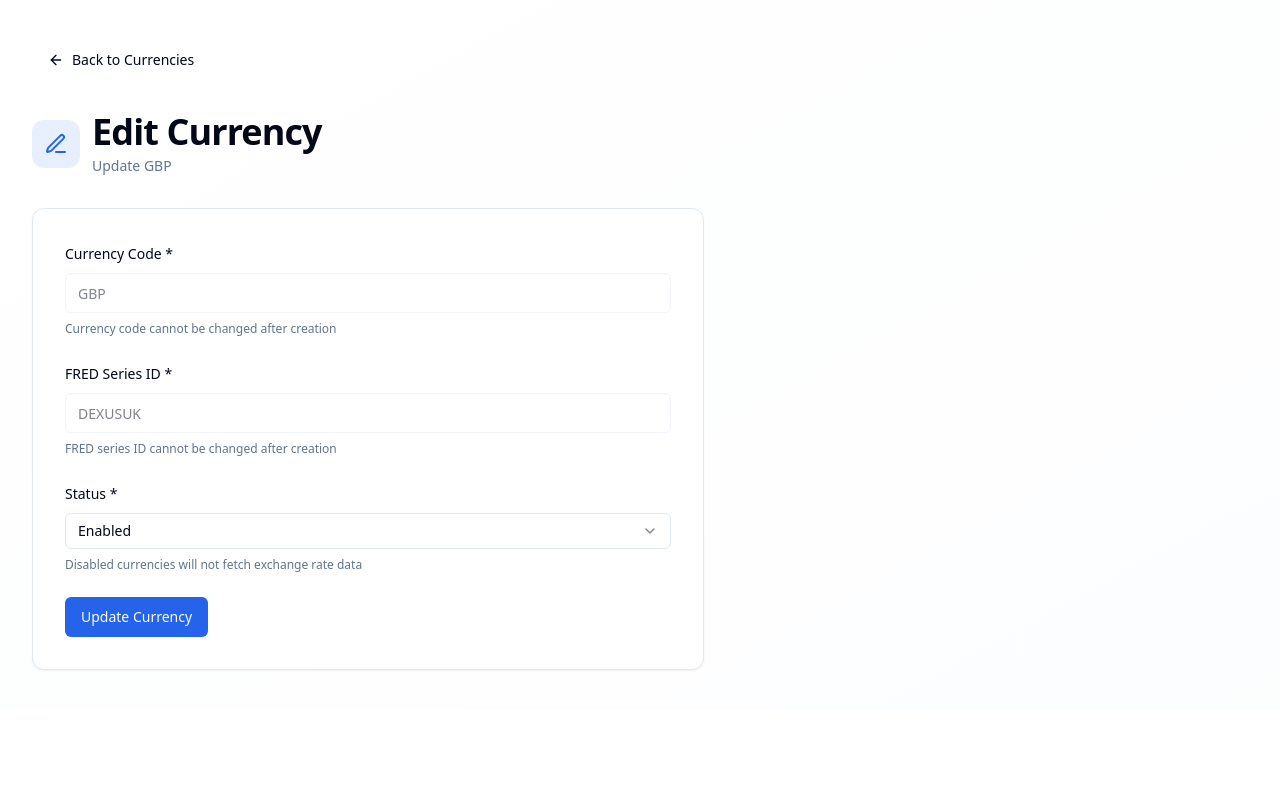
CurrencyEditPage › loads an existing currency and disables it after confirmation
Expected: the field showing "GBP" is disabled, [65,273,671,313]
Expected: the field showing "DEXUSUK" is disabled, [65,393,671,433]
Click the button named "Status".
click(105, 530)  # box [65,513,671,549]
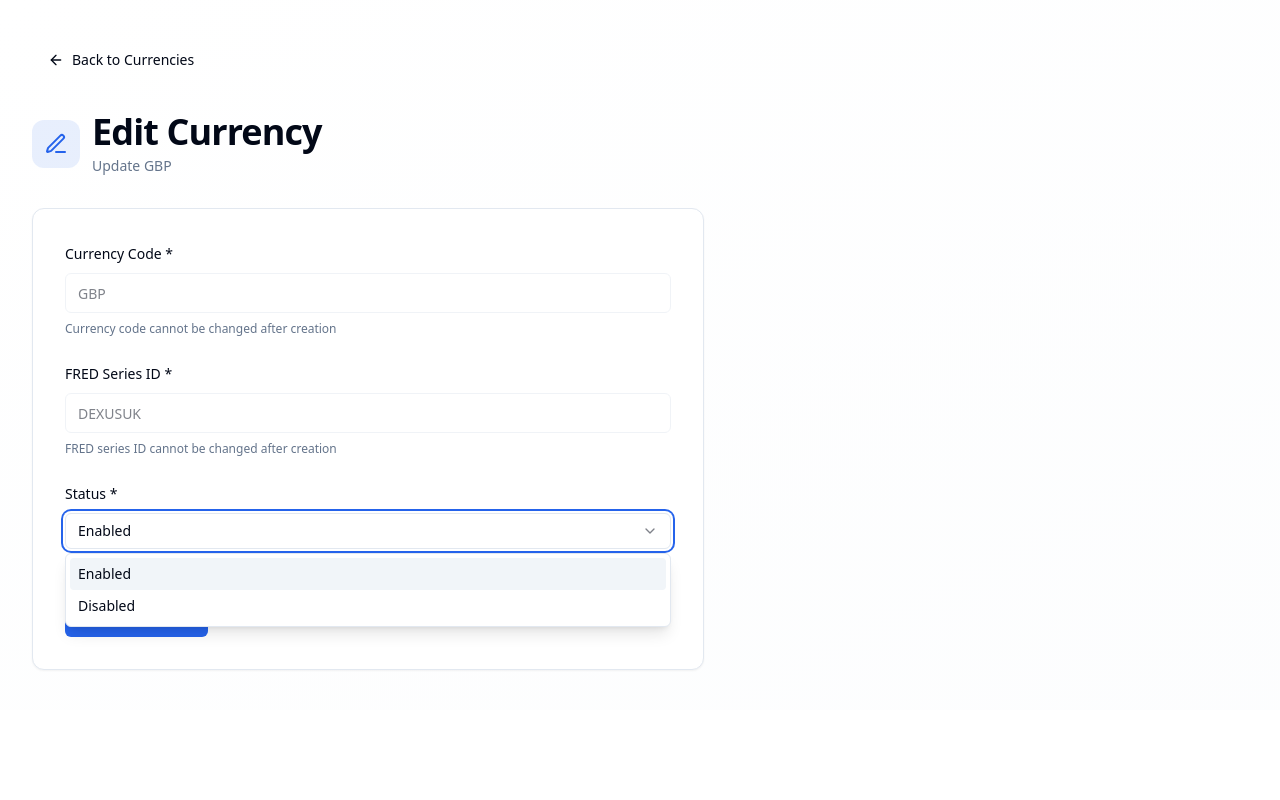
Click the button "Disabled".
click(107, 606)  # box [70,590,666,622]
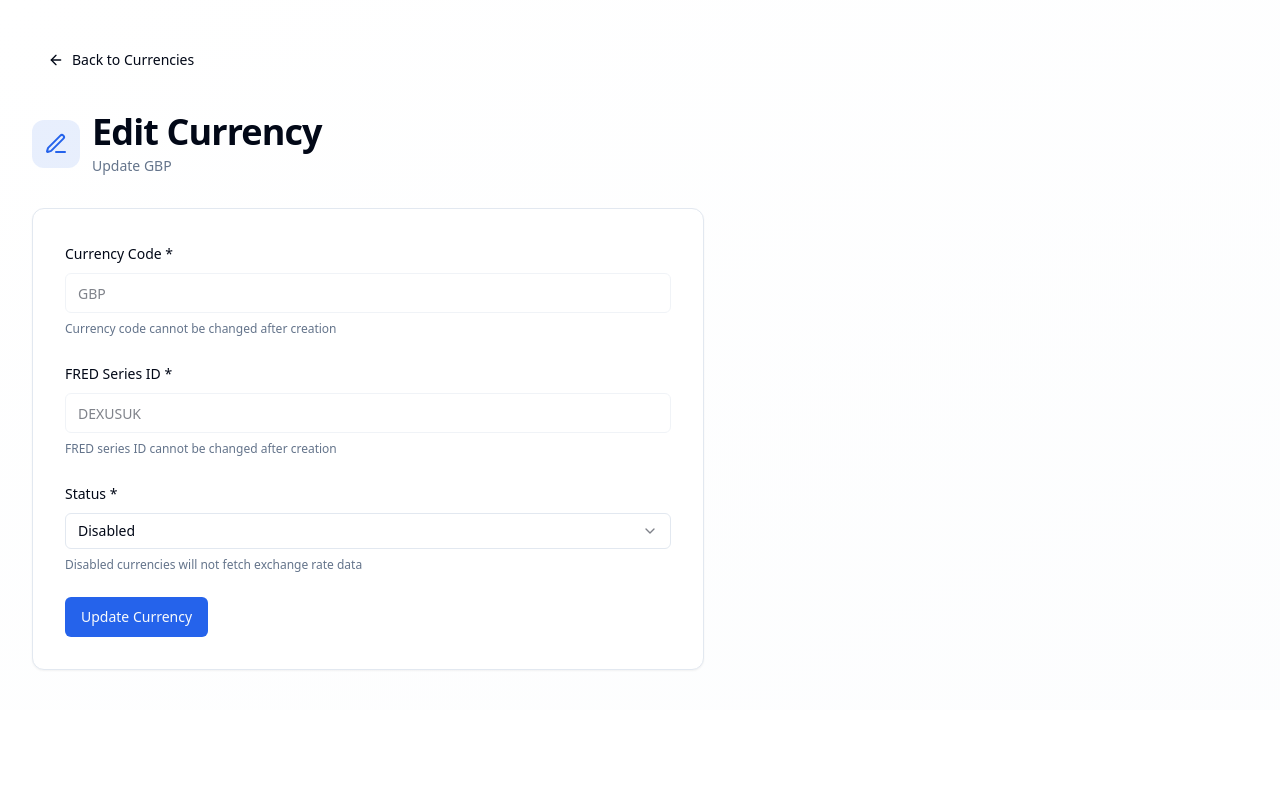
Click the button "Update Currency".
click(137, 617)  # box [65,597,208,637]
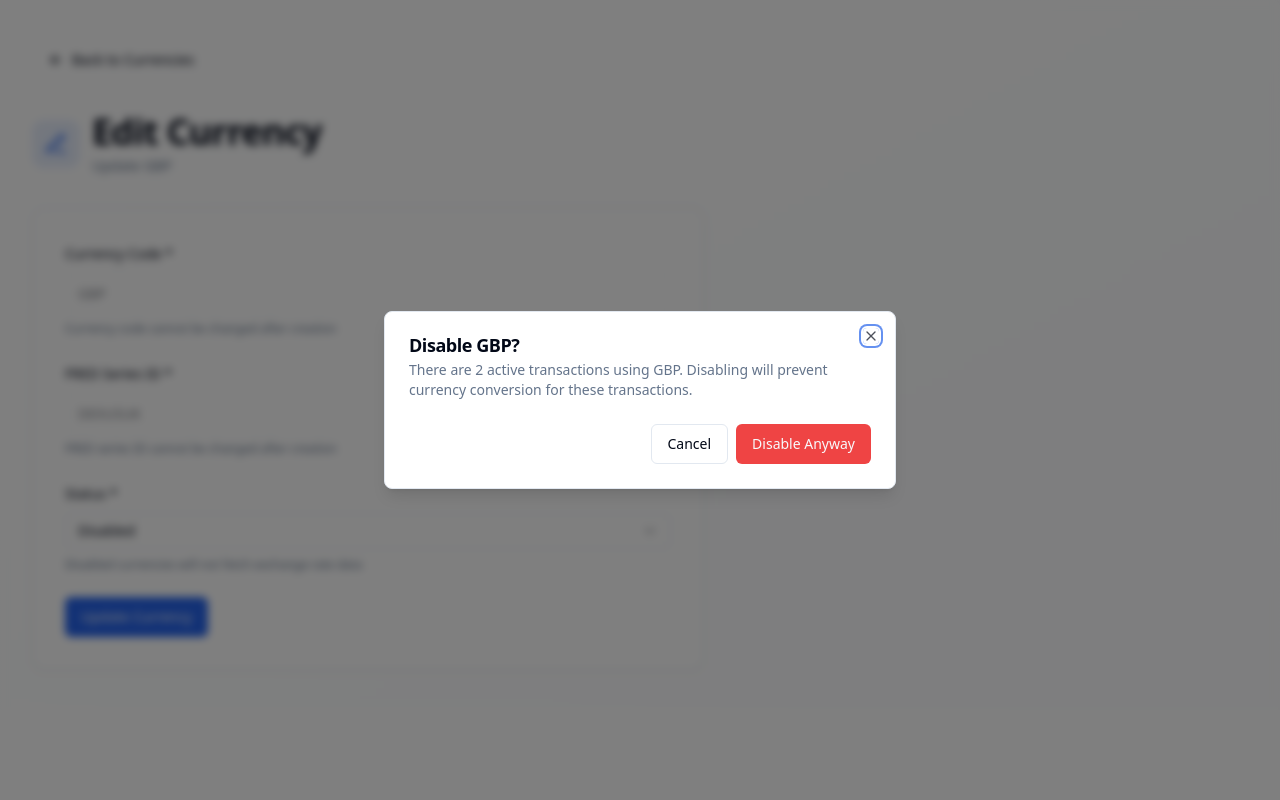
Expected: the heading "Disable GBP?" is shown, [409,333,520,357]
Expected: the text "There are 2 active transactions using GBP" is shown, [409,360,871,400]
Click the button "Disable Anyway".
click(804, 444)  # box [736,424,871,464]
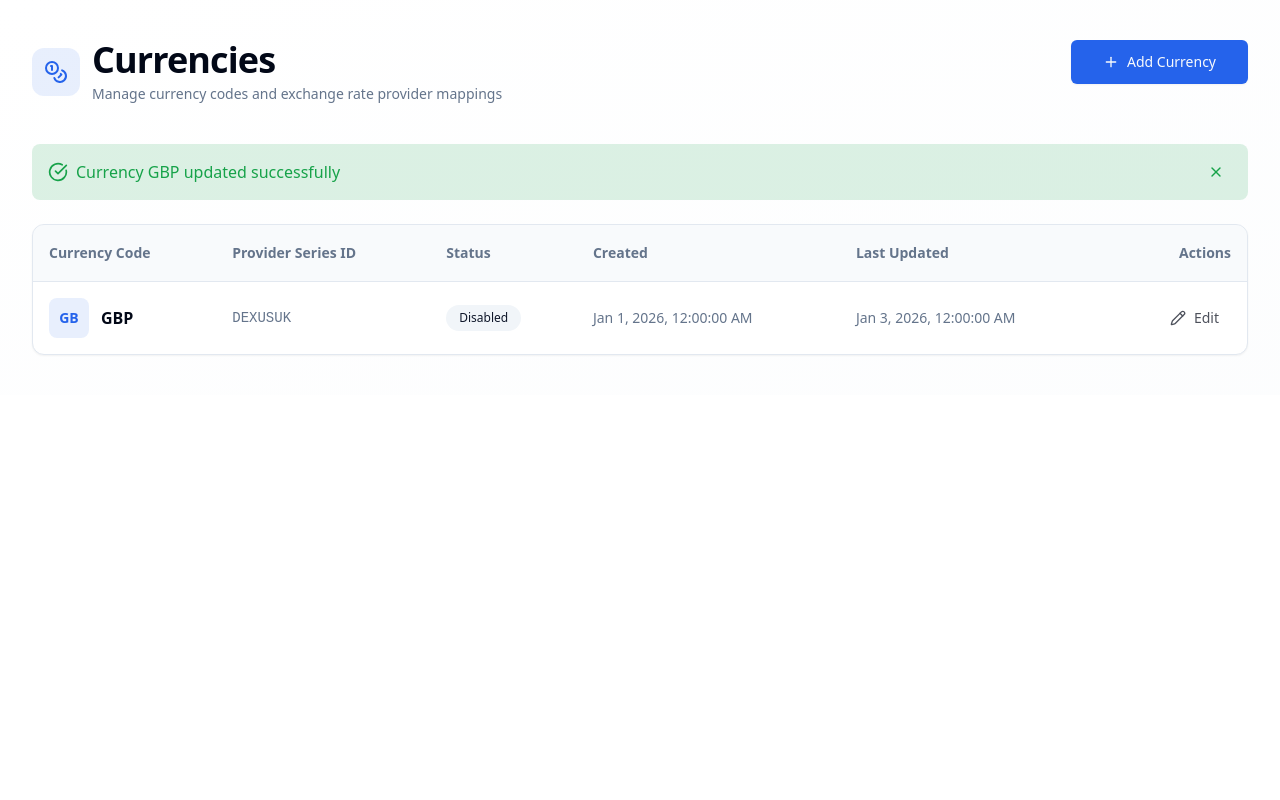
Expected: the text "Currency GBP updated successfully" is shown, [76,160,340,184]
Expected: the heading "Currencies" is shown, [92,35,275,84]
